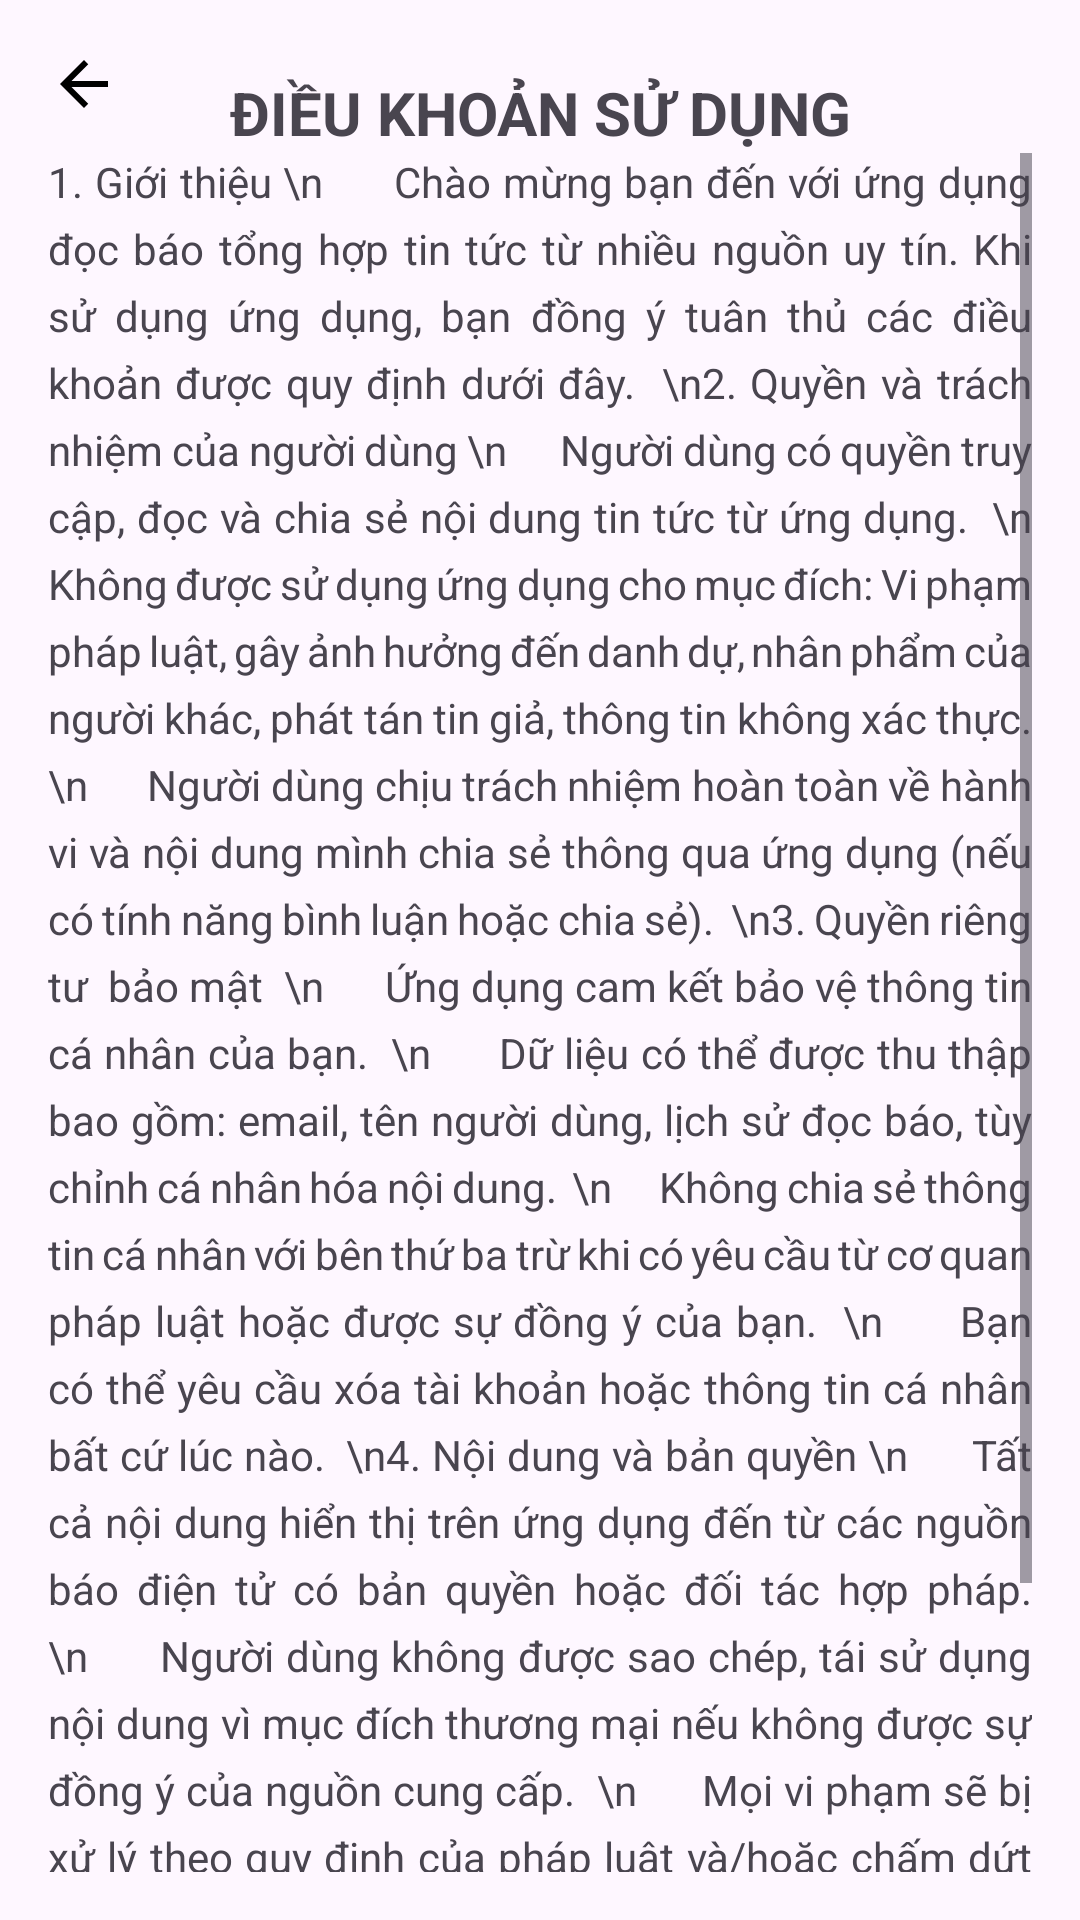

Named icons in this screenshot (1080w x 1920h) and their centers, (x=x, y=y):
Quay lại: (x=84, y=84)
